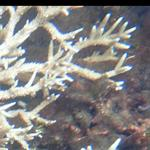dead: (1, 24, 141, 148)
